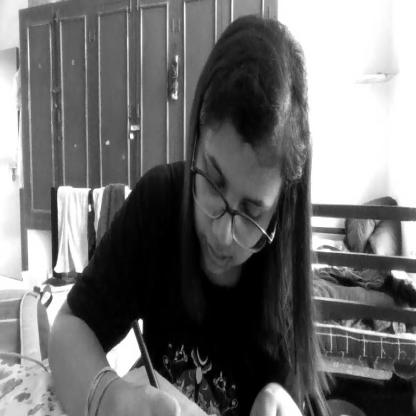Distracted: (193, 26, 310, 290)
